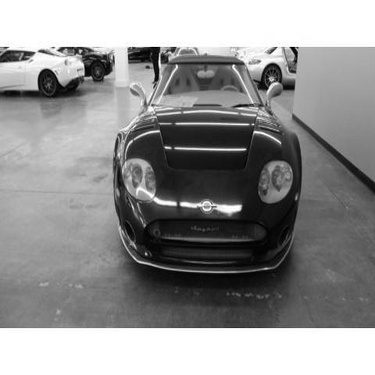car: (99, 57, 311, 280), (1, 43, 85, 101), (231, 42, 319, 86), (49, 35, 122, 81)
